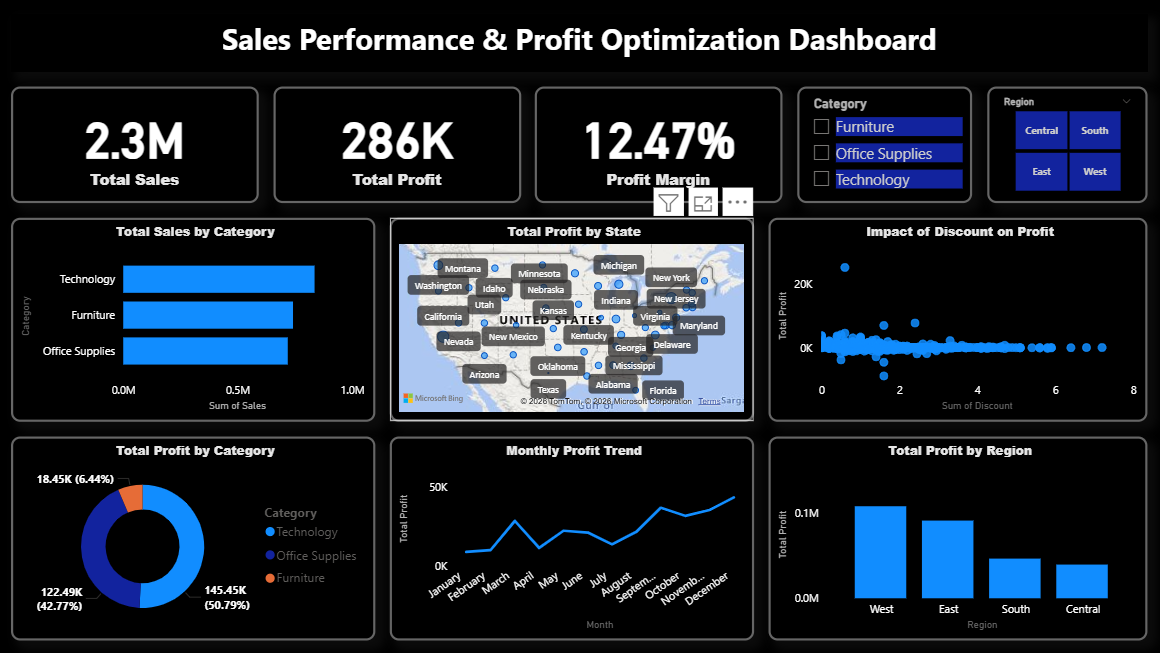

The page's visual inventory and layout, read from the dashboard file:
{"tool":"powerbi","page":{"name":"Dashboard","canvas":[1280,720],"ordinal":0},"visuals":[{"type":"card","title":"Total Profit","fields":{"Values":["cleaned_data.Total Sales"]},"box":[16,96,272,128],"z":0},{"type":"clusteredBarChart","title":"Total Sales by Category","fields":{"Category":["cleaned_data.Category"],"Y":["Sum(cleaned_data.Sales)"]},"box":[16,240,400,224],"z":1000},{"type":"clusteredColumnChart","fields":{"Category":["cleaned_data.Region"],"Y":["cleaned_data.Total Profit"]},"box":[848,480,416,224],"z":2000},{"type":"lineChart","title":"Monthly Profit Trend","fields":{"Y":["cleaned_data.Total Profit"],"Category":["cleaned_data.Order Date.Variation.Date Hierarchy.Month"]},"box":[432,480,400,224],"z":3000},{"type":"card","title":"Total Profit","fields":{"Values":["cleaned_data.Total Profit"]},"box":[304,96,272,128],"z":4000},{"type":"card","title":"Total Profit","fields":{"Values":["cleaned_data.Profit Margin"]},"box":[592,96,272,128],"z":5000},{"type":"donutChart","fields":{"Category":["cleaned_data.Category"],"Y":["cleaned_data.Total Profit"]},"box":[16,480,400,224],"z":6000},{"type":"scatterChart","title":"Impact of Discount on Profit","fields":{"Category":["cleaned_data.Product Name"],"X":["Sum(cleaned_data.Discount)"],"Y":["cleaned_data.Total Profit"]},"box":[848,240,416,224],"z":7000},{"type":"slicer","fields":{"Values":["cleaned_data.Category"]},"box":[880,96,192,128],"z":8000},{"type":"slicer","fields":{"Values":["cleaned_data.Region"]},"box":[1088,96,176,128],"z":9000},{"type":"map","fields":{"Category":["cleaned_data.State"],"Size":["cleaned_data.Total Profit"]},"box":[432,240,400,224],"z":10000},{"type":"textbox","box":[16,16,1248,64],"z":11000}]}

Visuals, with their boxes in screenshot pixels (x1, y1, x2, y2), scaled from the page's 1280x720 canvas onto the 1160x653 screenshot:
"Total Profit" card: 14 87 261 203
"Total Sales by Category" clusteredBarChart: 14 218 377 421
clusteredColumnChart - cleaned_data.Region x cleaned_data.Total Profit: 768 435 1146 638
"Monthly Profit Trend" lineChart: 392 435 754 638
"Total Profit" card: 276 87 522 203
"Total Profit" card: 536 87 783 203
donutChart - cleaned_data.Category x cleaned_data.Total Profit: 14 435 377 638
"Impact of Discount on Profit" scatterChart: 768 218 1146 421
slicer - cleaned_data.Category: 798 87 972 203
slicer - cleaned_data.Region: 986 87 1146 203
map - cleaned_data.State x cleaned_data.Total Profit: 392 218 754 421
textbox: 14 15 1146 73
